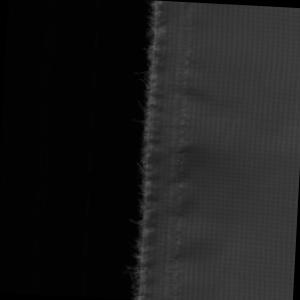Damage: (124, 1, 172, 300)
